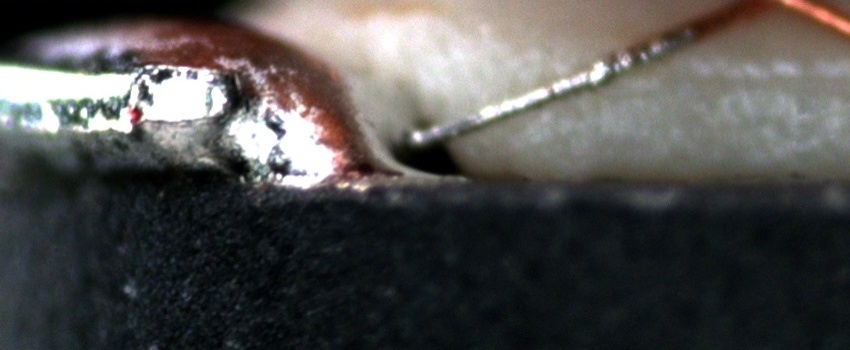CL: (724, 0, 823, 17)
DL: (579, 48, 850, 112)
TS: (402, 26, 691, 152)
